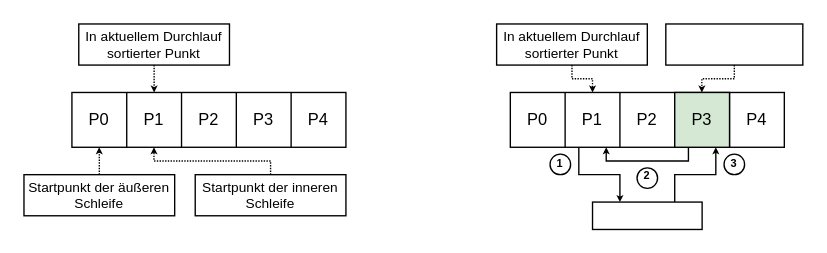
This 827x253 diagram has some shape labels left out. Here are the shapes that lost their labels. From the top down, the centre of each, then its label:
the point at 733,44: Punkt mit kürzestem Abstand
the point at 646,215: Tauschvariable
